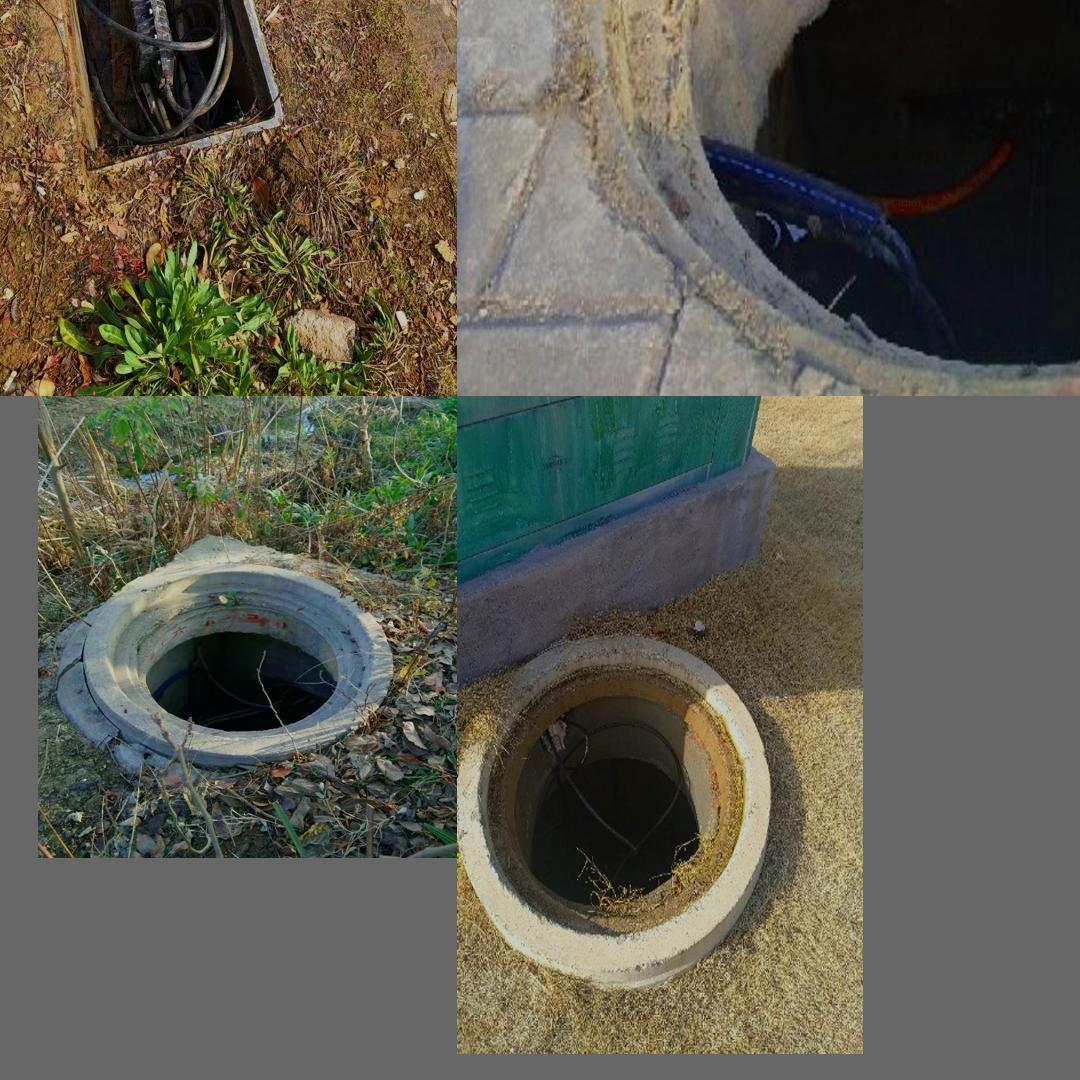lose: (589, 0, 1080, 396), (457, 633, 772, 984), (82, 562, 392, 769), (31, 0, 287, 171)
